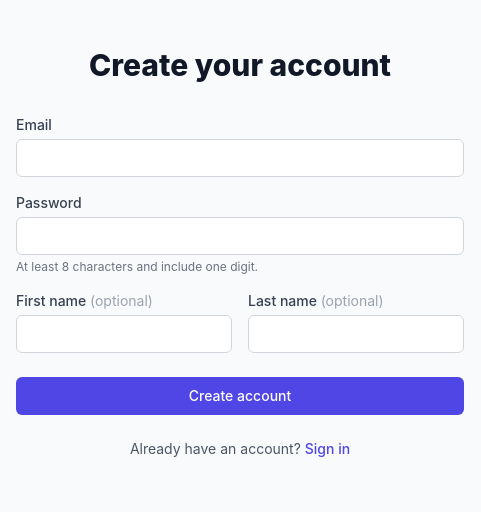
Test: RegisterPage › blocks submit when password has no digit
The image size is (481, 512).
Type "a@b.com" into the field labelled "Email". click: (240, 158)
box: [16, 139, 464, 177]
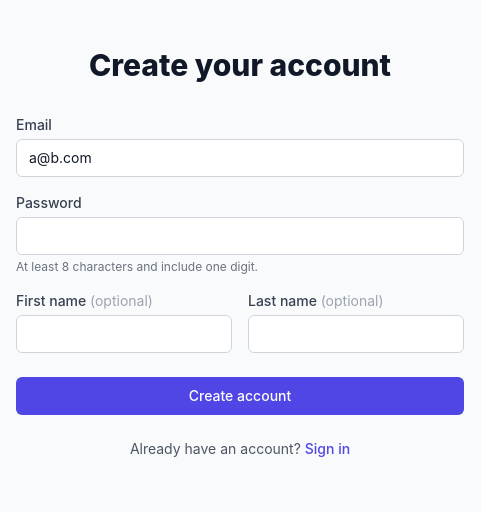
Type "nodigitsX" into the password field labelled "Password". click: (240, 236)
box: [16, 217, 464, 255]
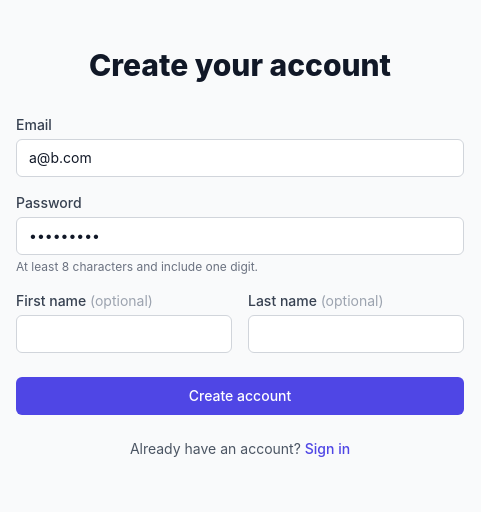
Click the button "Create account". click: click(240, 396)
box: [16, 377, 464, 415]
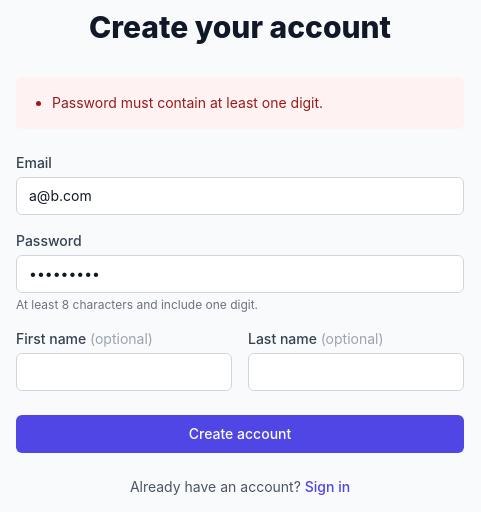
Expected: the message shows "must contain at least one digit", [52, 94, 323, 111]
